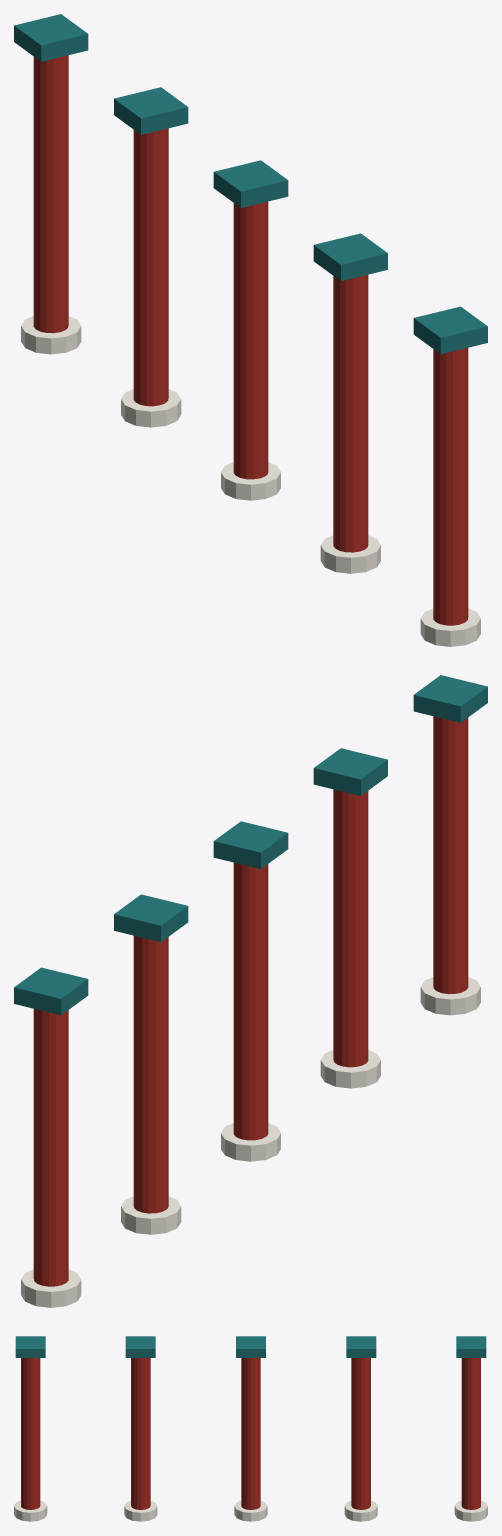
Rendered from SM_03_Columns_East.fbx.
The picture shows the model from 3 angles, top to bottom: view 1: azimuth 30°, elevation 25°; view 2: azimuth 150°, elevation 25°; view 3: azimuth 270°, elevation 25°; orthographic projection. The views are drawn at different scales.
Parts seen in each view (by area): view 1: Columns_East; view 2: Columns_East; view 3: Columns_East.
Part boxes in pixels (x1=…): Columns_East: x1=14, y1=14, x2=487, y2=646; Columns_East: x1=14, y1=675, x2=487, y2=1307; Columns_East: x1=14, y1=1336, x2=487, y2=1521.
Bounding box in the file's own units: 116 × 1656 × 664.
